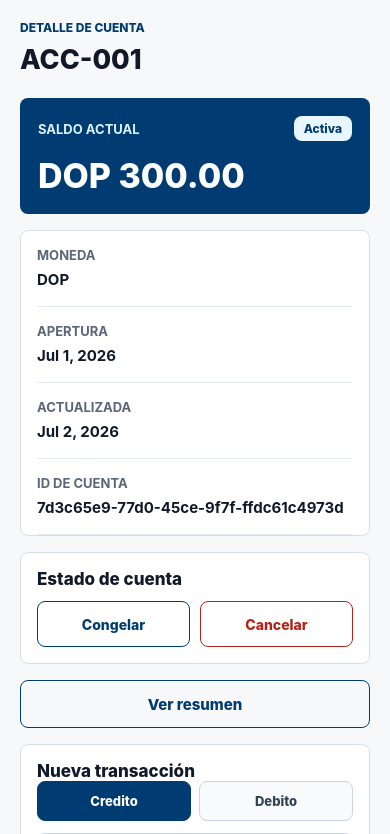
Test: <AccountDetailsScreen /> › navigates to the balance summary screen
The width and height of the screenshot is (390, 834).
Click the button "Ver resumen" at (195, 704), box left=20, top=680, right=370, bottom=728
(page scrolled)
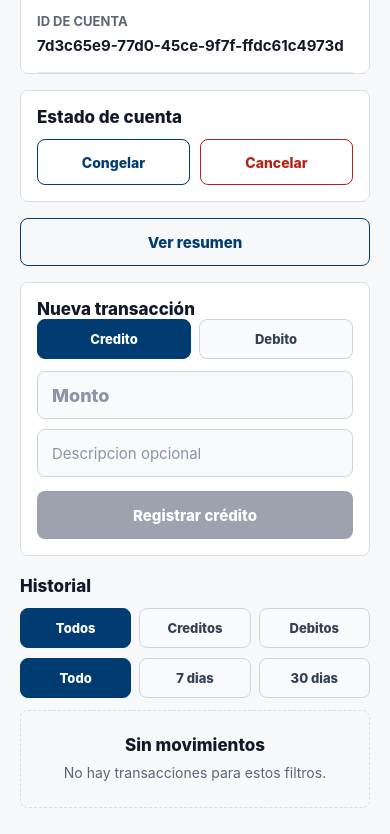
Expected: the text "Sin movimientos" is shown, left=125, top=735, right=265, bottom=755
